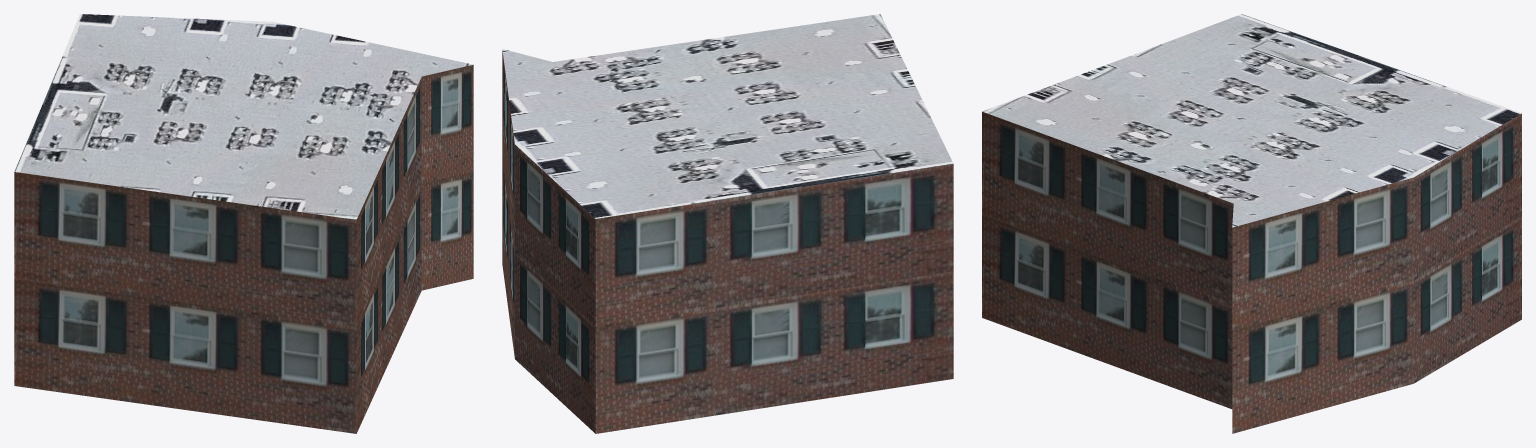
The model's file is ResTex__523.fbx.
3 views of the same model, side by side, from view 1: azimuth 30°, elevation 25°; view 2: azimuth 150°, elevation 25°; view 3: azimuth 270°, elevation 25° (orthographic). The views are drawn at different scales.
Parts seen in each view (by area): view 1: CityEngineMaterial_14_m, CityEngineMaterial_4_m; view 2: CityEngineMaterial_14_m, CityEngineMaterial_4_m; view 3: CityEngineMaterial_14_m, CityEngineMaterial_4_m.
Part boxes in pixels (left/top/right/bottom): CityEngineMaterial_14_m: left=14, top=64, right=473, bottom=433; CityEngineMaterial_4_m: left=14, top=14, right=472, bottom=219; CityEngineMaterial_14_m: left=502, top=50, right=953, bottom=433; CityEngineMaterial_4_m: left=502, top=14, right=953, bottom=218; CityEngineMaterial_14_m: left=982, top=111, right=1521, bottom=433; CityEngineMaterial_4_m: left=982, top=14, right=1521, bottom=227.
Size of the model in its own units: 13.33 by 6 by 14.23.
Materials: 2 (2 with a texture image).
